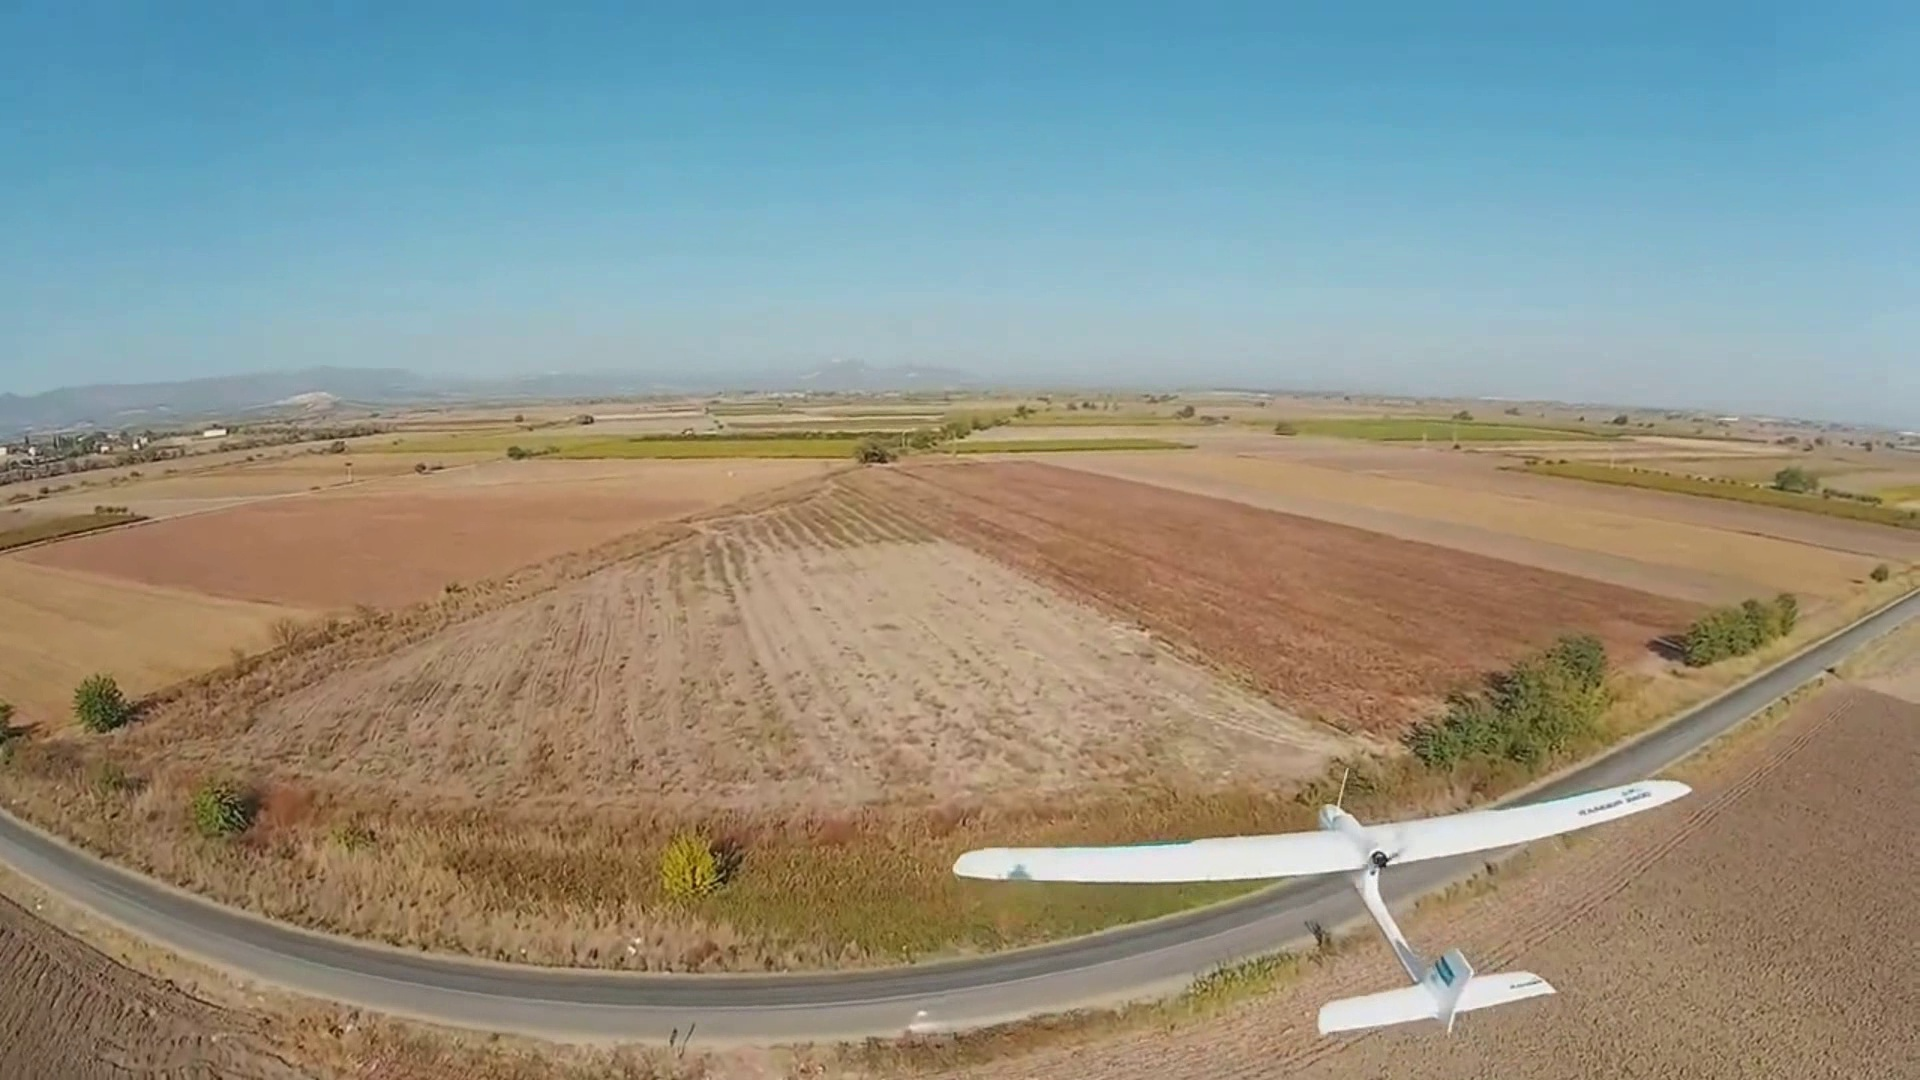airplane: (952, 578, 1920, 1040)
